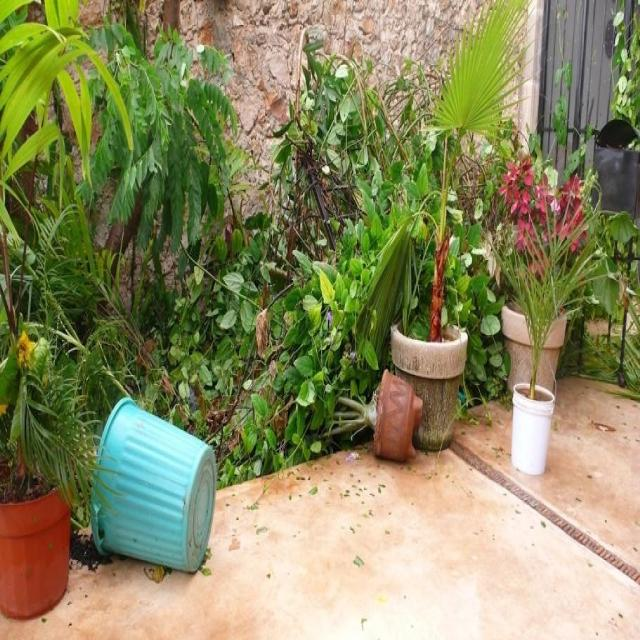Plastics: (378, 292, 583, 482), (84, 375, 240, 603), (0, 480, 85, 620)
